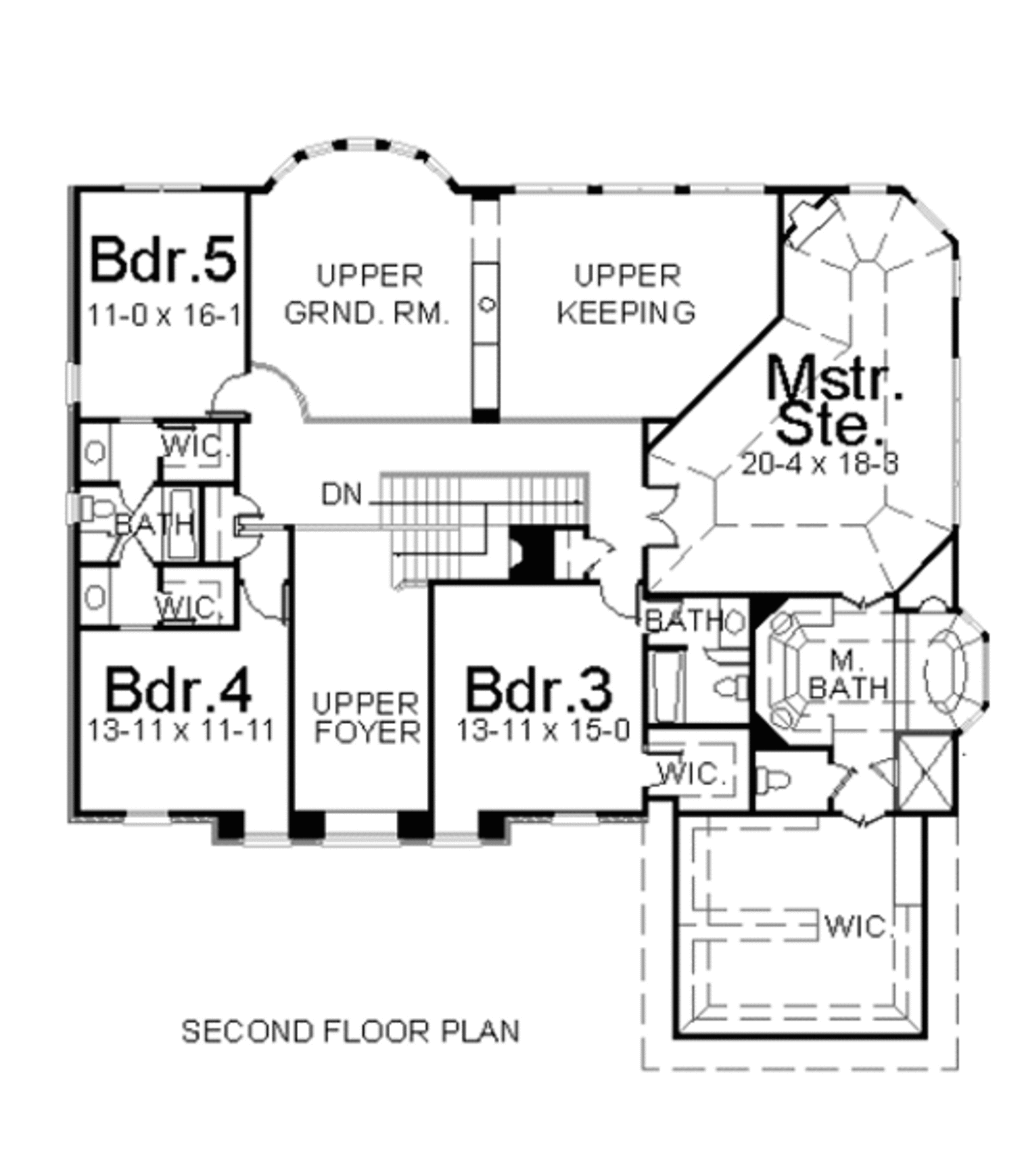door: (644, 480, 681, 560), (239, 579, 293, 631), (599, 581, 647, 626), (202, 370, 249, 413), (824, 760, 863, 806), (235, 485, 265, 522), (236, 532, 265, 565)
large_sink: (706, 672, 753, 711), (752, 762, 795, 801), (77, 494, 116, 535)
small_sink: (76, 423, 116, 487), (76, 561, 112, 626), (716, 593, 751, 651)
stairs: (367, 467, 591, 590)
tub: (923, 616, 975, 721), (159, 479, 209, 566), (647, 643, 688, 724)
window: (263, 135, 453, 193), (684, 170, 767, 201), (596, 176, 682, 204), (116, 802, 183, 837), (313, 830, 403, 856), (515, 179, 597, 202), (119, 181, 211, 197), (239, 828, 295, 854), (60, 351, 83, 412), (427, 826, 479, 850)
